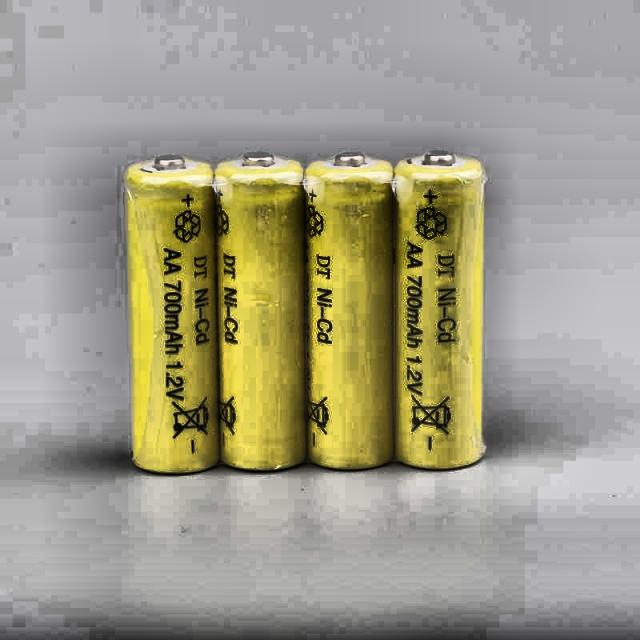Non-Valuable Waste - Batteries: (125, 155, 219, 473), (215, 152, 306, 470), (395, 154, 485, 469), (305, 152, 394, 469)
